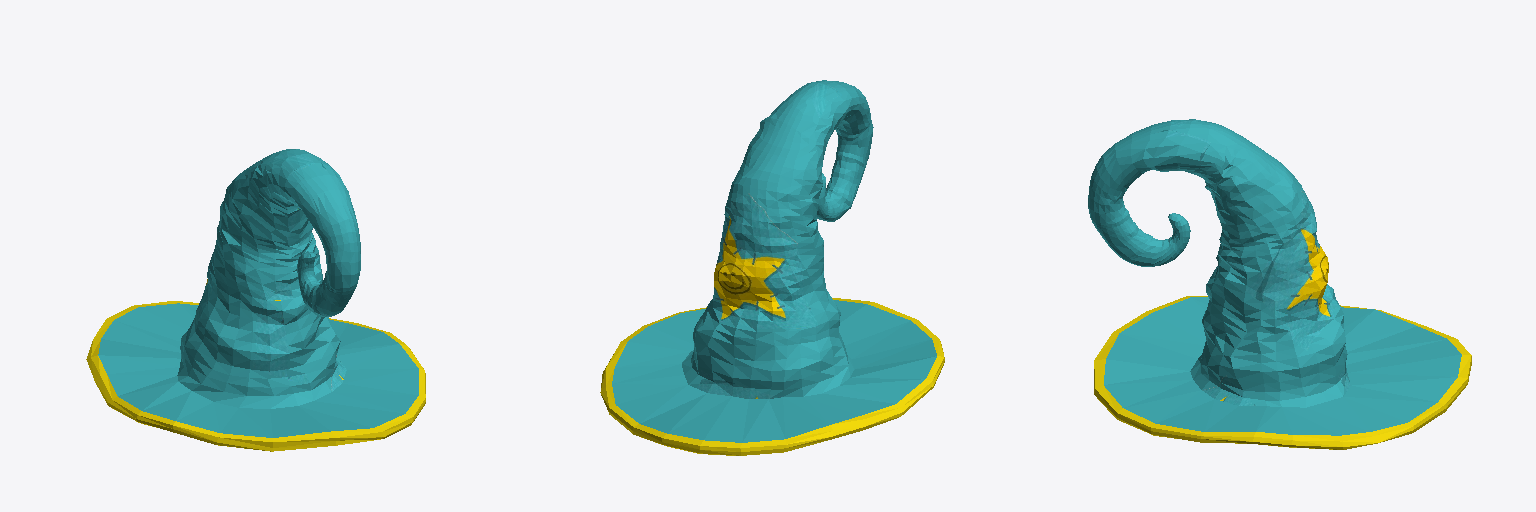
3 views of the same model, side by side, from view 1: azimuth 30°, elevation 25°; view 2: azimuth 150°, elevation 25°; view 3: azimuth 270°, elevation 25° (orthographic).
Visible parts, largest first — view 1: Hat_low; view 2: Hat_low; view 3: Hat_low.
Boxes of the visible parts, <box> form: Hat_low: <box>86,149,425,451</box>; Hat_low: <box>600,80,944,455</box>; Hat_low: <box>1088,119,1471,449</box>.
Size of the model in its own units: 1.72 by 1.54 by 2.
2 materials, 2 textured.